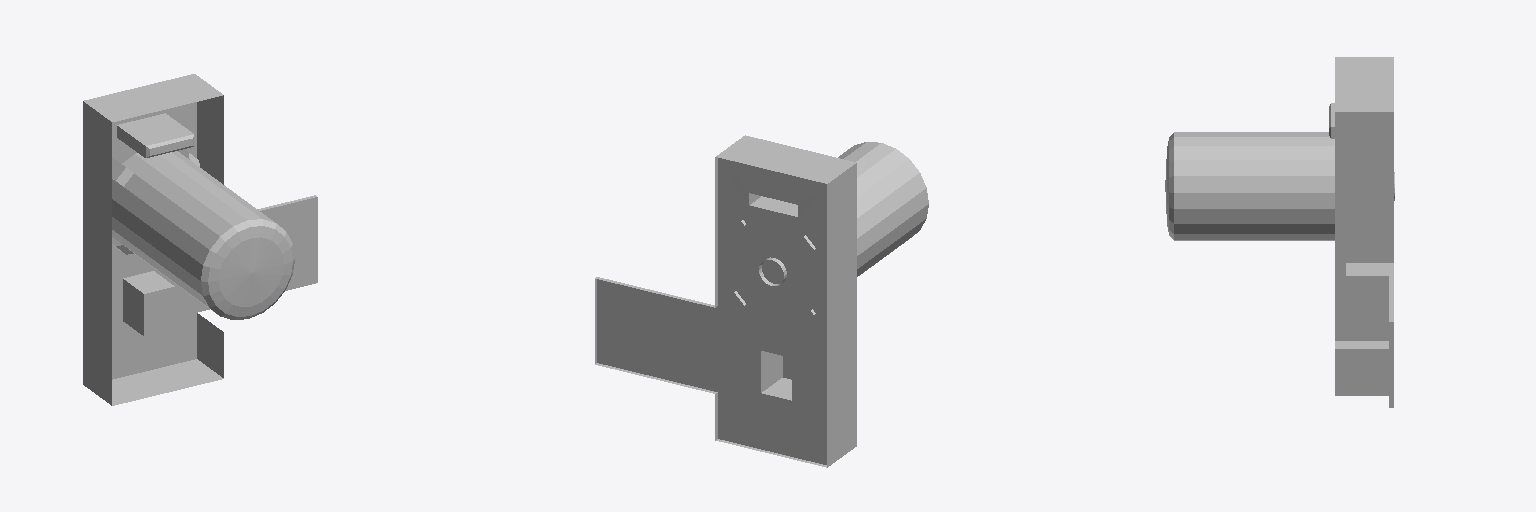
The model's file is igs_tank_1.obj.
3 views of the same model, side by side, from view 1: azimuth 30°, elevation 25°; view 2: azimuth 150°, elevation 25°; view 3: azimuth 270°, elevation 25° (orthographic).
Bounding box in the file's own units: 0.8568 × 0.9984 × 0.7323.